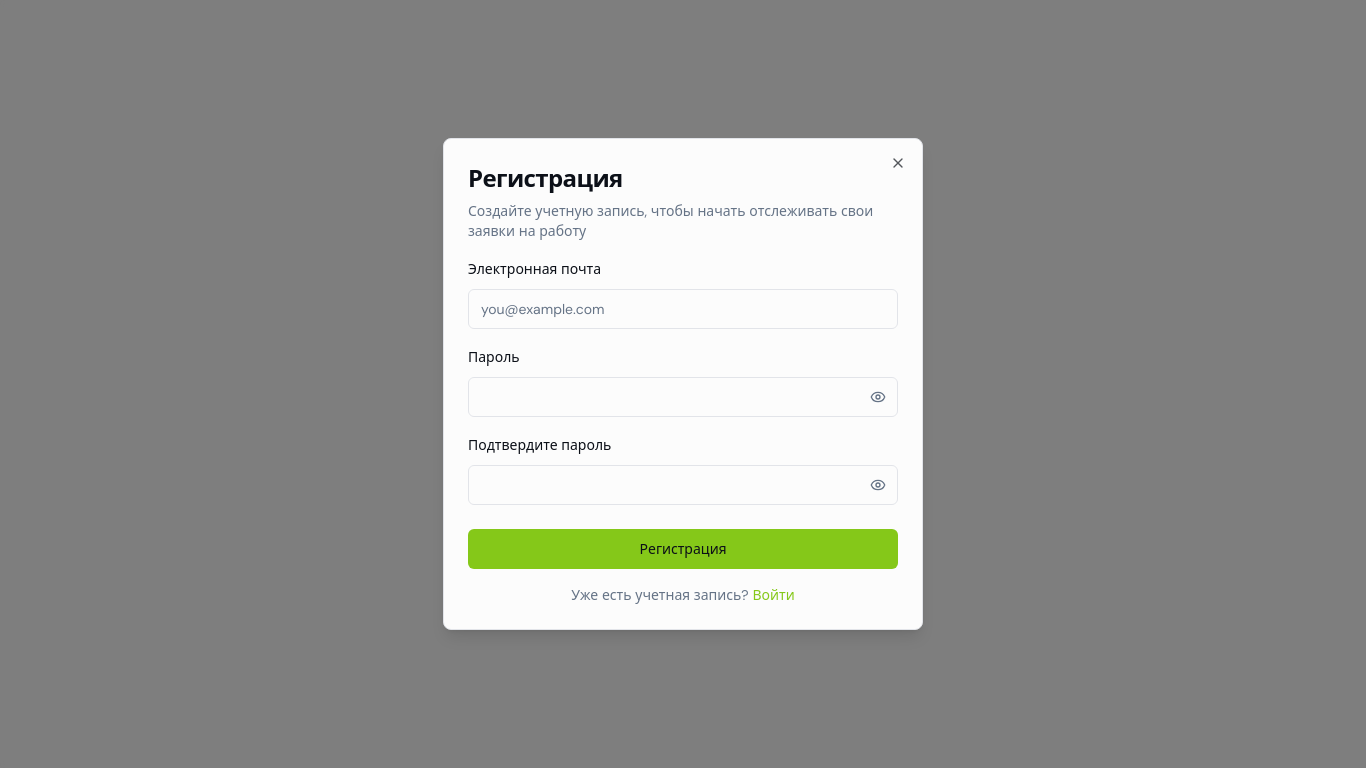
Test case: a password the server refused, in ru › is explained in the registration form's own language
Type "user@test.com" into the field labelled "Электронная почта" at [683, 309], box [468,289,898,329]
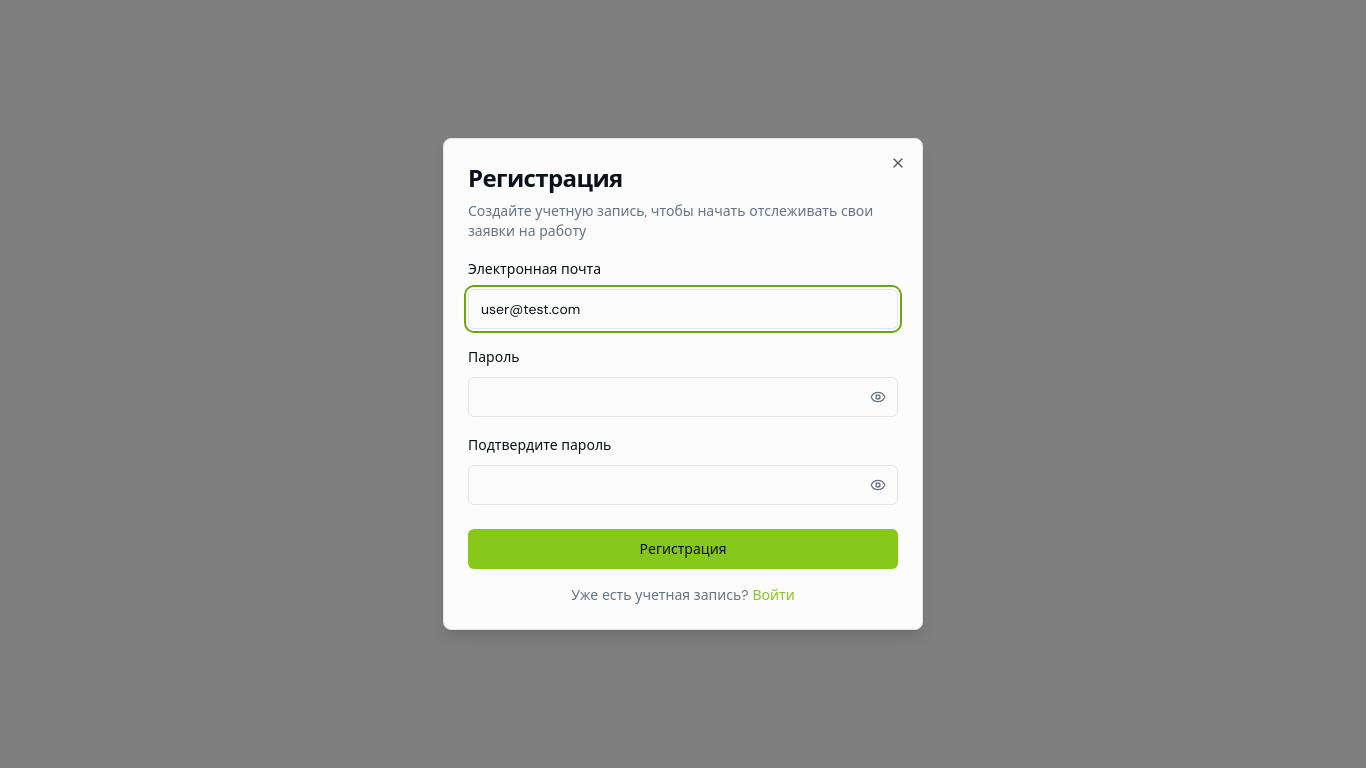
Type "validpass1" into the password field labelled "Пароль" at [683, 397], box [468,377,898,417]
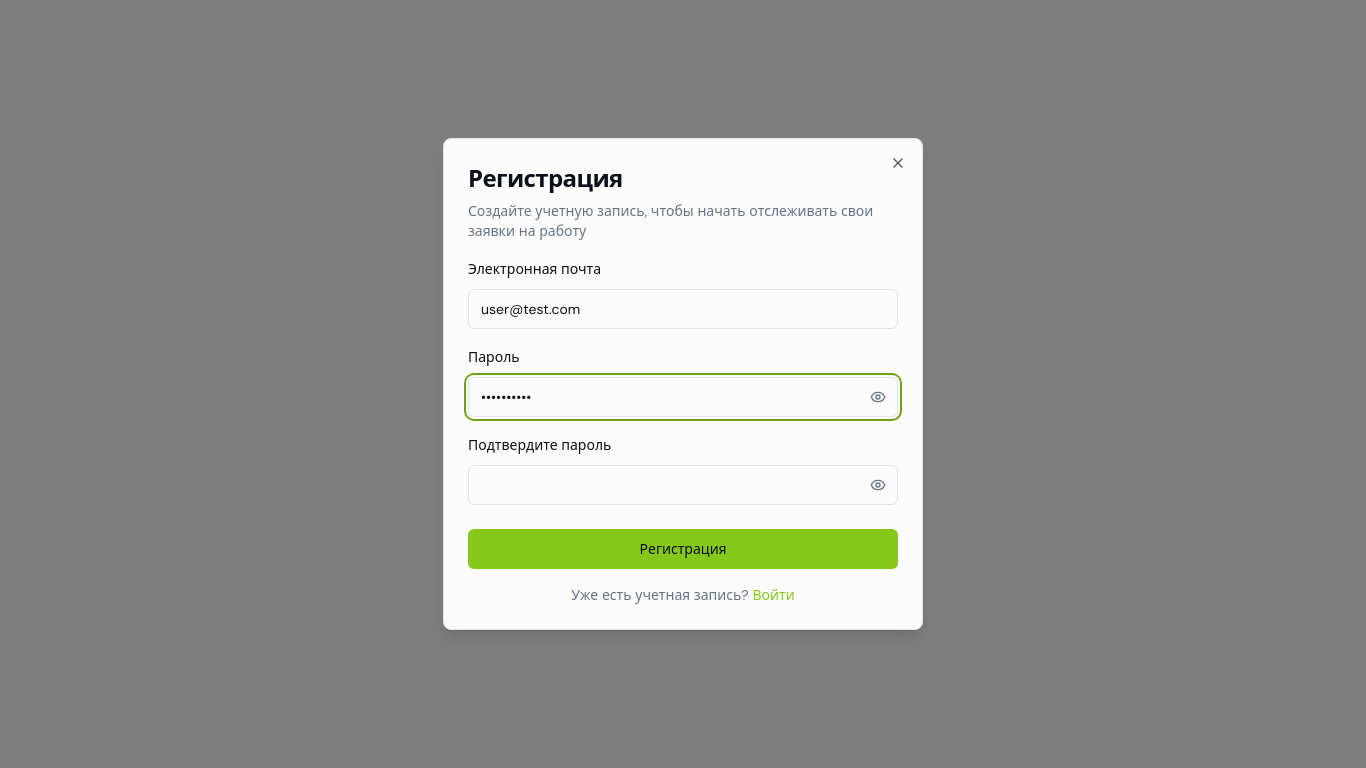
Type "validpass1" into the password field labelled "Подтвердите пароль" at [683, 485], box [468,465,898,505]
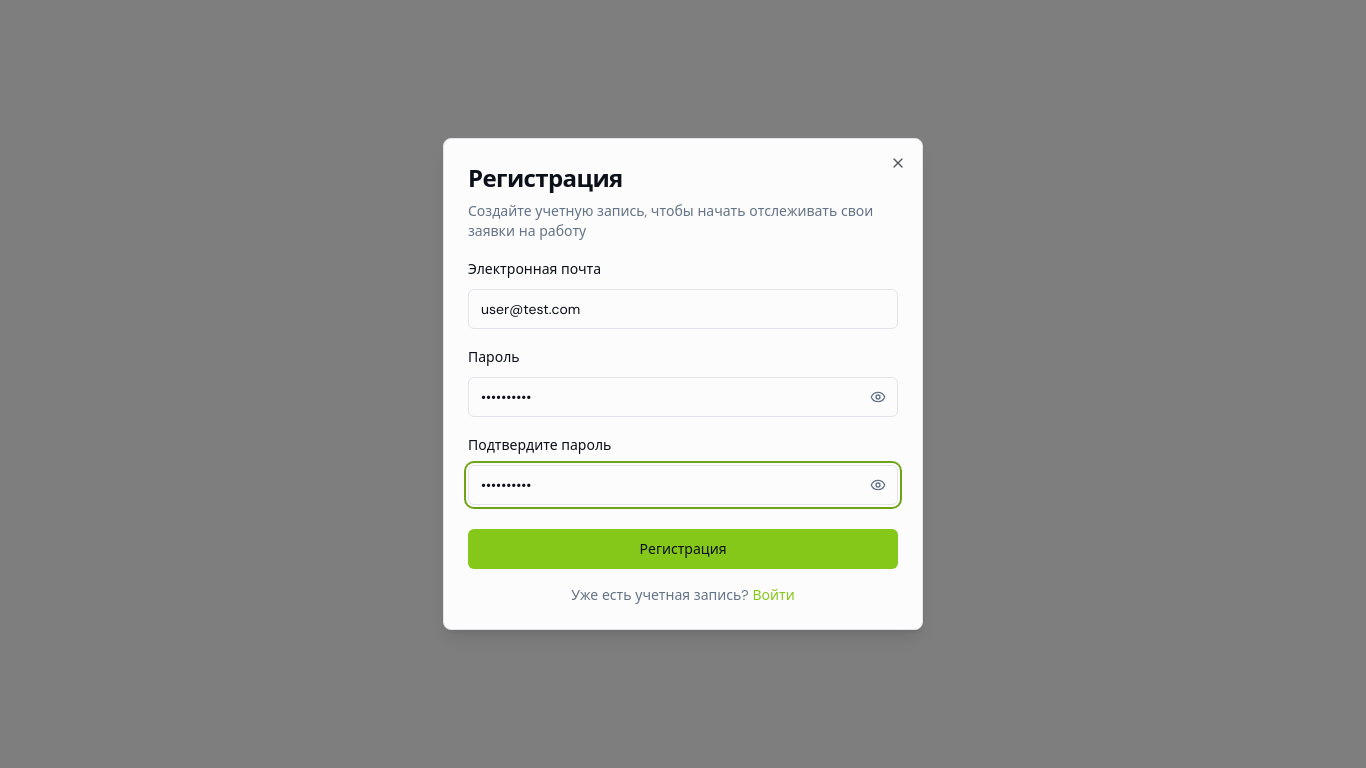
Click the button "Регистрация" at [683, 549], box [468,529,898,569]
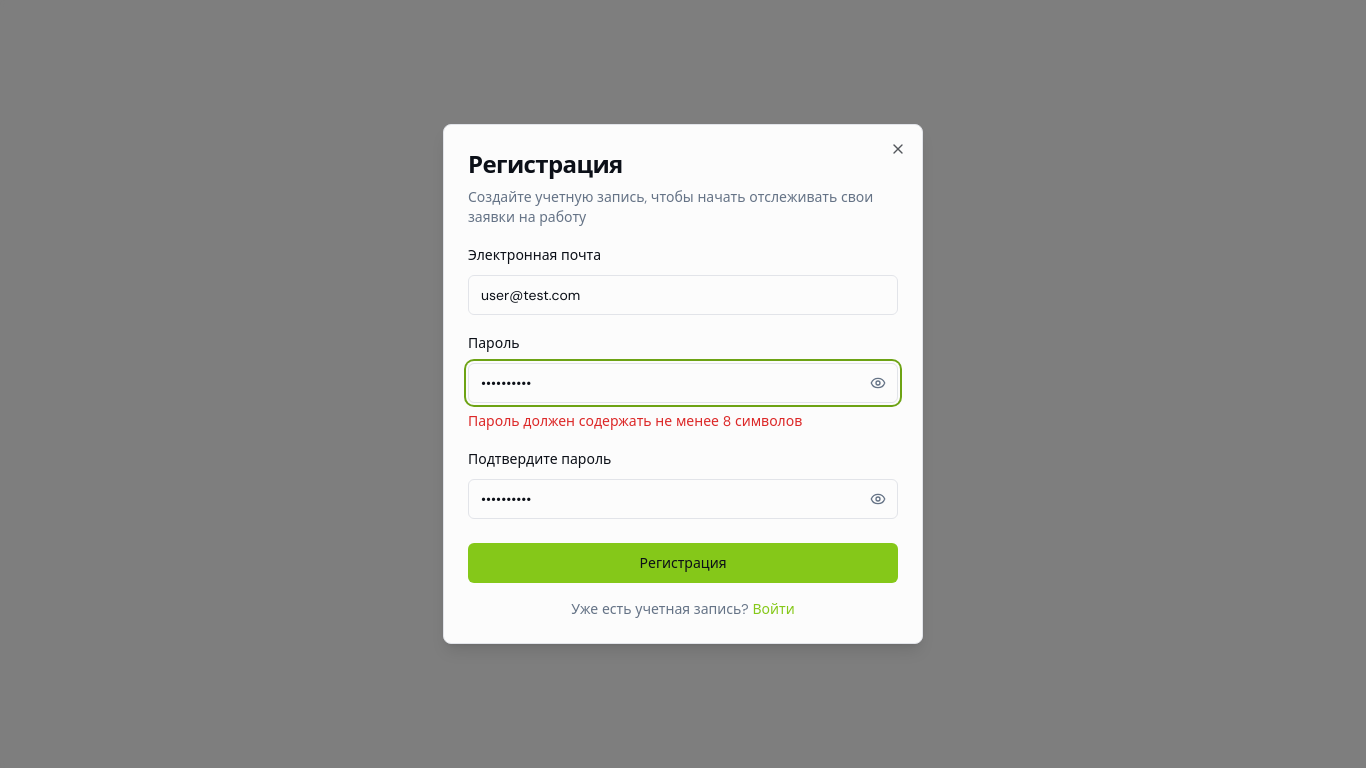
Check: the text "Пароль должен содержать не менее 8 символов" is shown, box [468,412,802,430]
